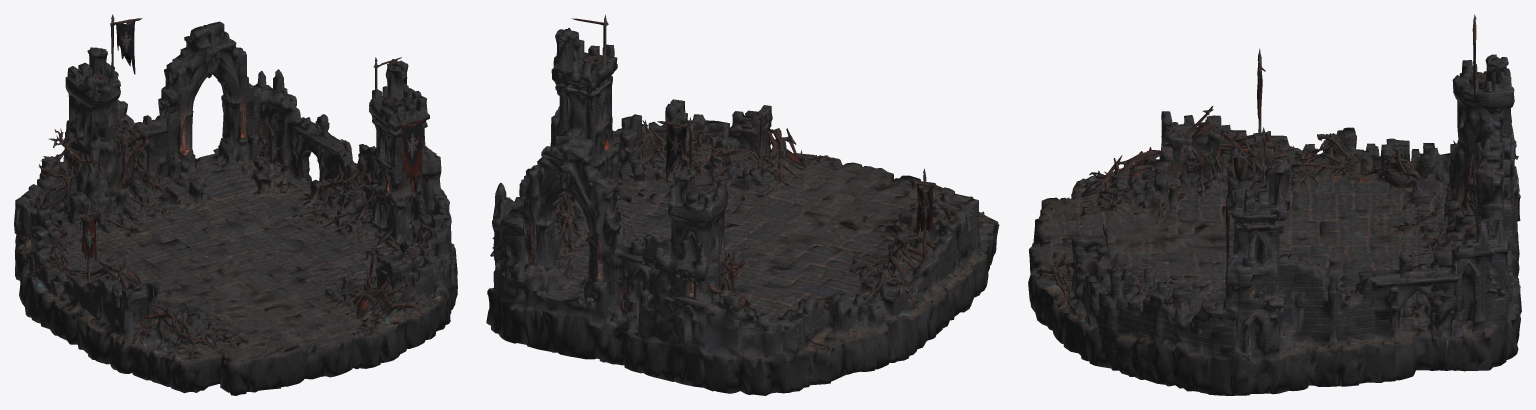
File: battlefield-mobile.glb
3 views of the same model, side by side, from view 1: azimuth 30°, elevation 25°; view 2: azimuth 150°, elevation 25°; view 3: azimuth 270°, elevation 25° (orthographic). The views are drawn at different scales.
Size of the model in its own units: 1.88 by 1.1 by 1.9.
Materials: 1 (1 with a texture image).
